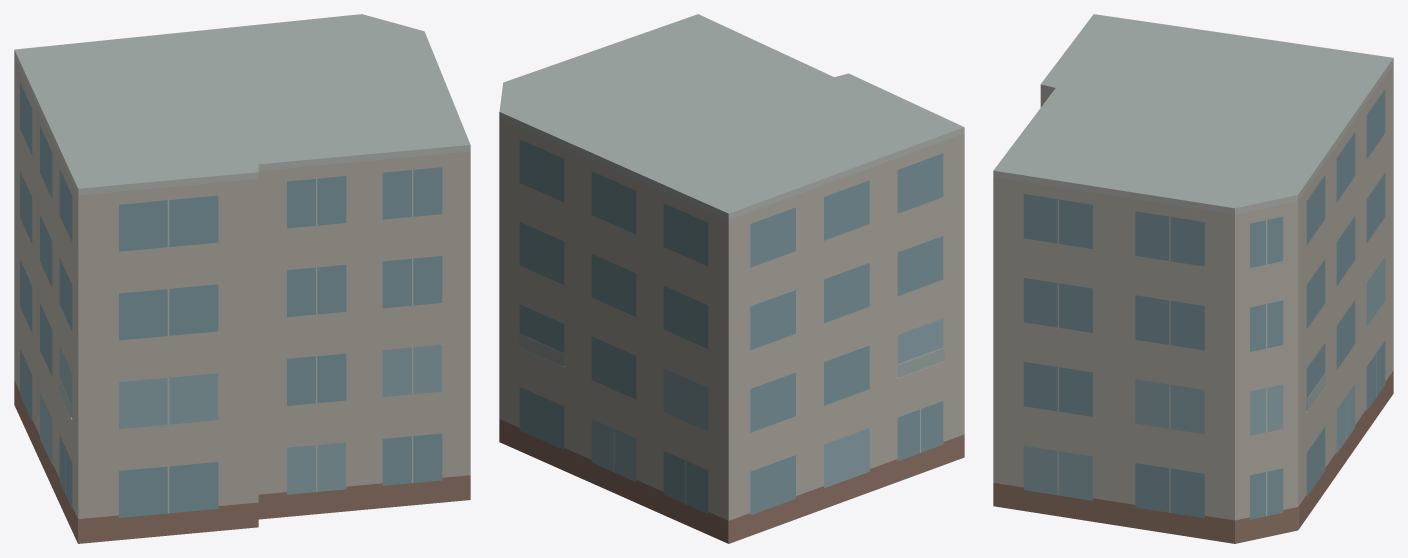
The model's file is survey-upis-32969139.glb.
3 views of the same model, side by side, from view 1: azimuth 30°, elevation 25°; view 2: azimuth 150°, elevation 25°; view 3: azimuth 270°, elevation 25° (orthographic). The views are drawn at different scales.
Visible parts, largest first — view 1: survey-upis-32969139.tmp; view 2: survey-upis-32969139.tmp; view 3: survey-upis-32969139.tmp.
Part boxes in pixels (x1,y1,x2,y2): survey-upis-32969139.tmp: [14, 14, 470, 543]; survey-upis-32969139.tmp: [499, 14, 964, 543]; survey-upis-32969139.tmp: [993, 14, 1393, 543].
Bounding box in the file's own units: 16.4 × 13.2 × 14.28.
